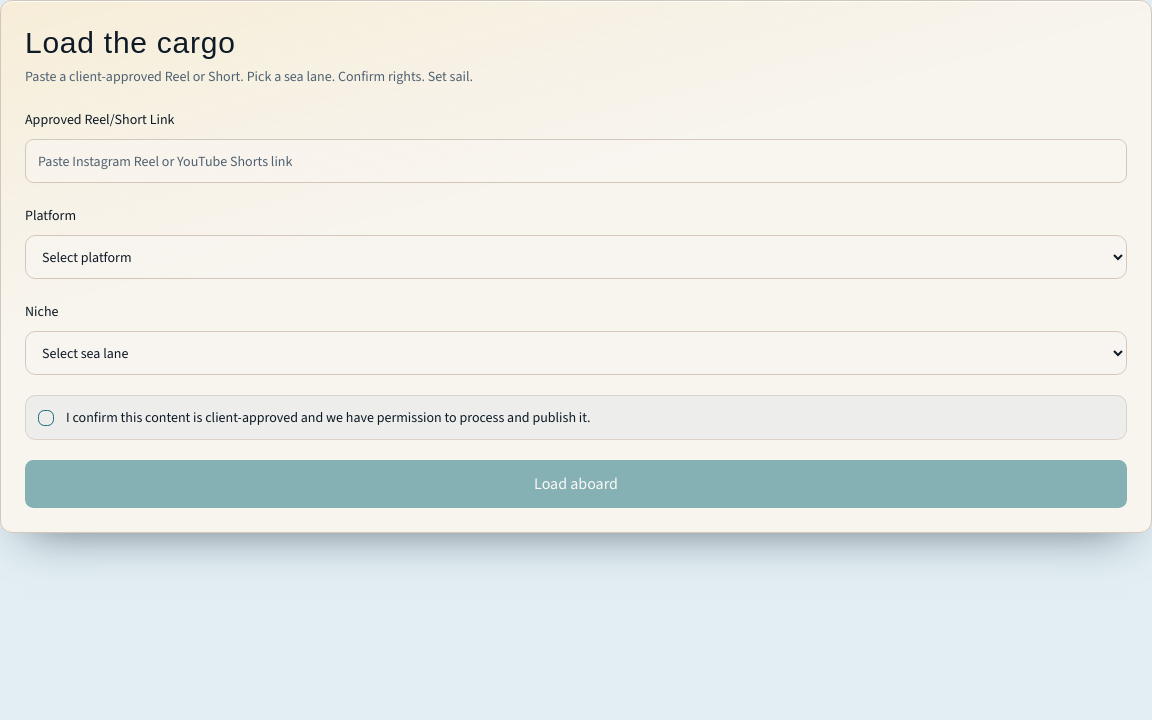
Test: SubmitForm › shows spinner during submission
Type "https://www.youtube.com/shorts/abc" into the field labelled "Approved Reel/Short Link". click: (576, 161)
box: x1=25 y1=139 x2=1127 y2=183
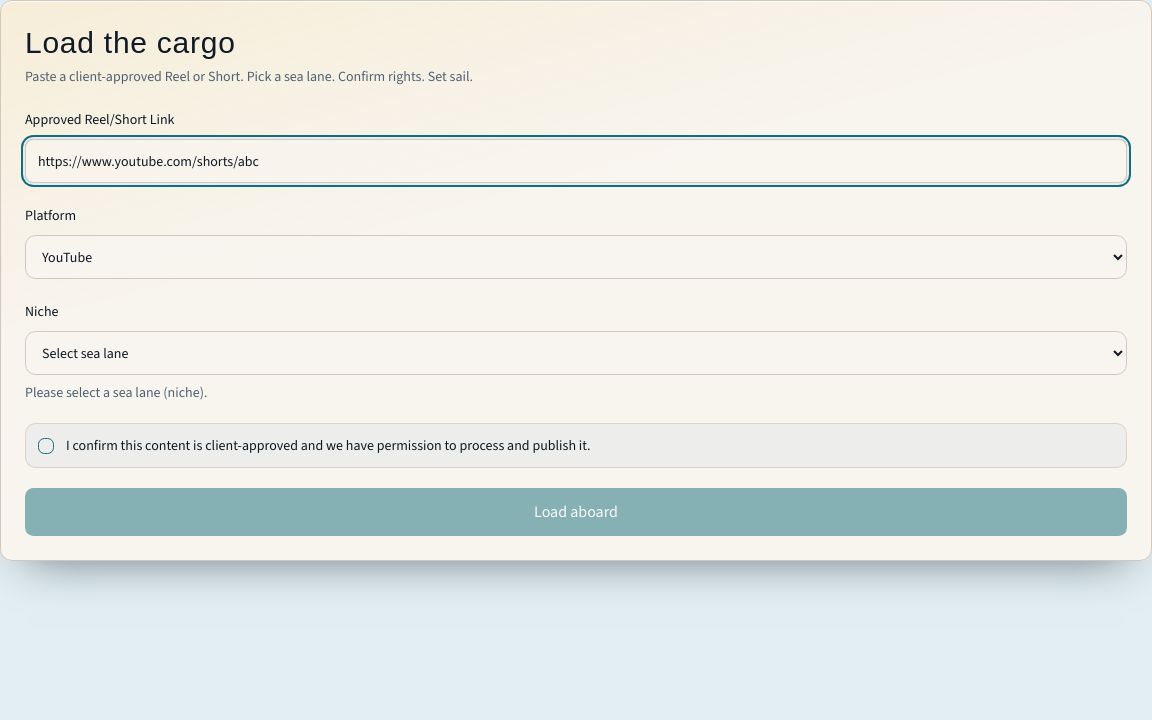
Select "Memes" in the dropdown labelled "Niche". click: (576, 353)
box: x1=25 y1=331 x2=1127 y2=375
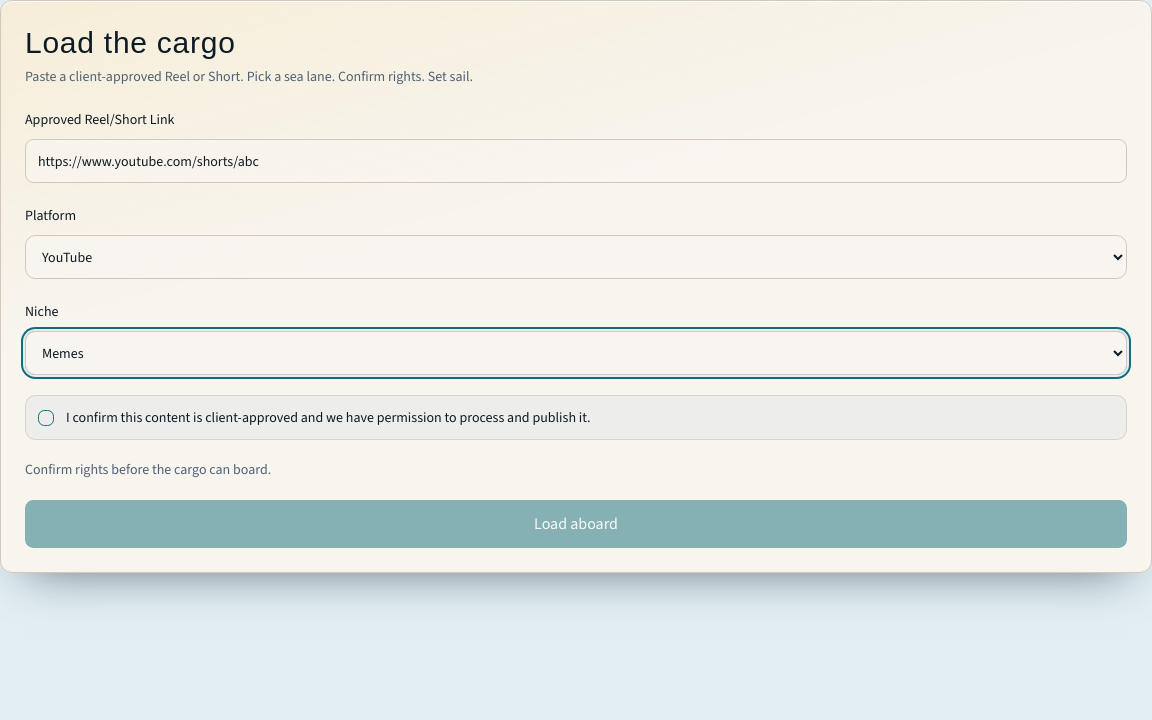
Click the checkbox named "I confirm this content is client-approved and we have permission to process and publish it.". click: (46, 418)
box: x1=38 y1=410 x2=54 y2=426
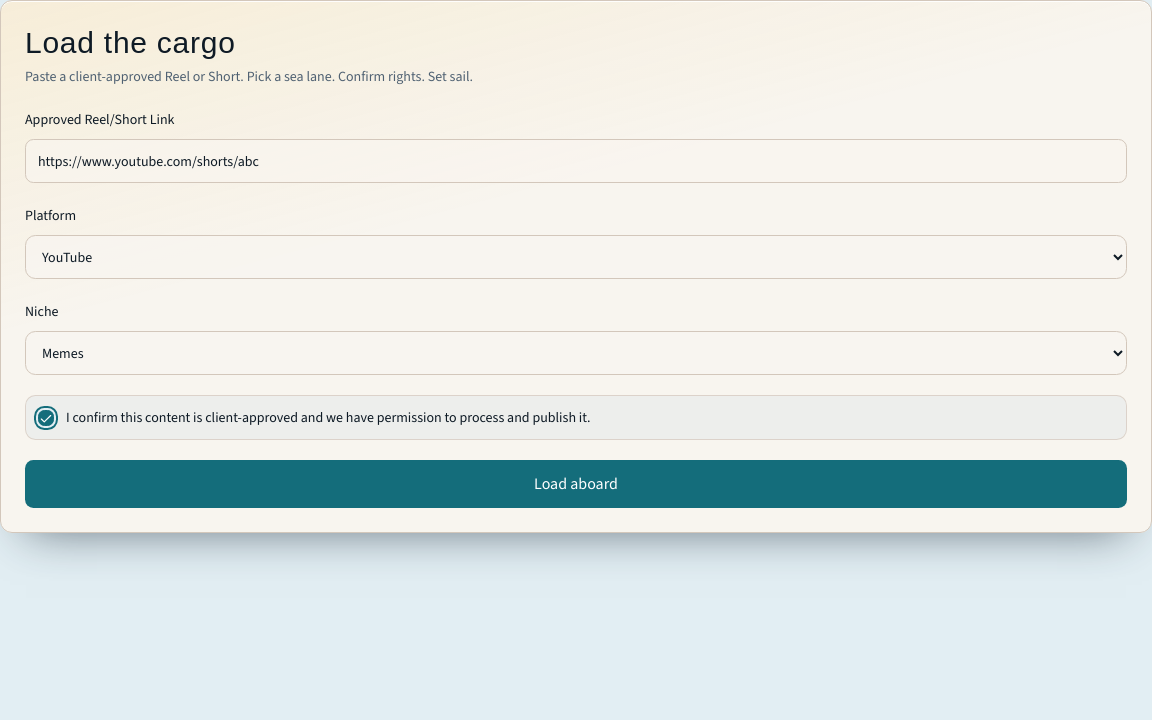
Click the button "Load aboard". click: (576, 484)
box: x1=25 y1=460 x2=1127 y2=508
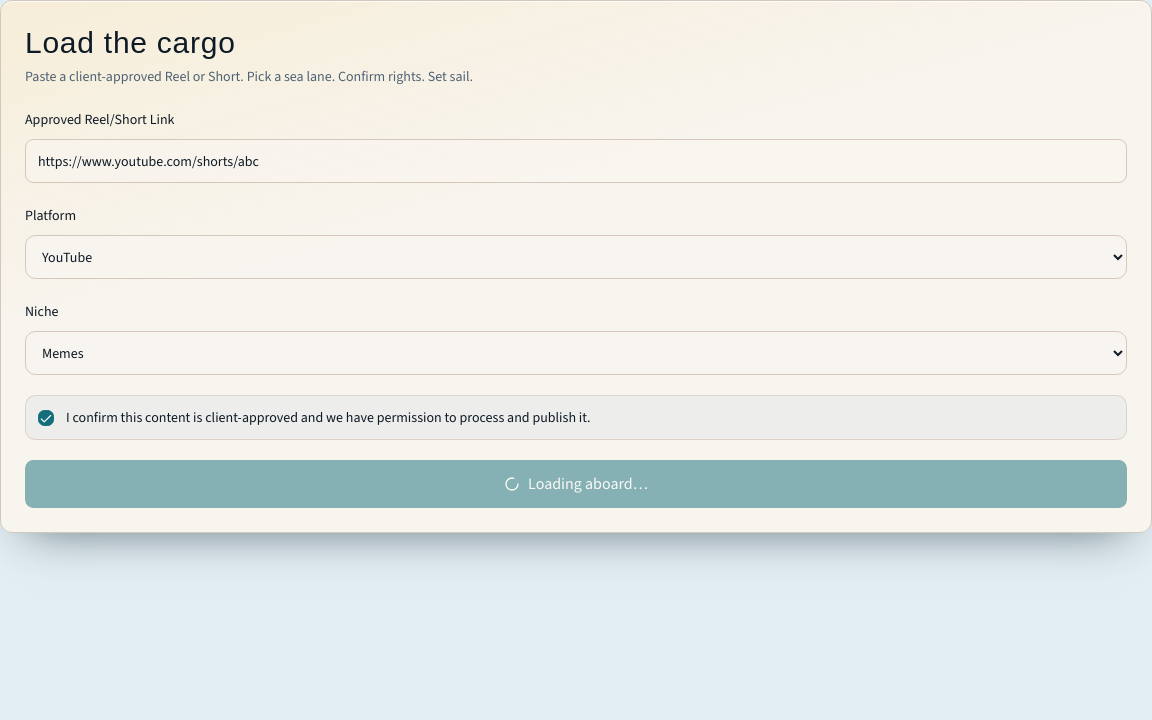
Expected: the button "Loading aboard…" is shown, x1=25 y1=460 x2=1127 y2=508
